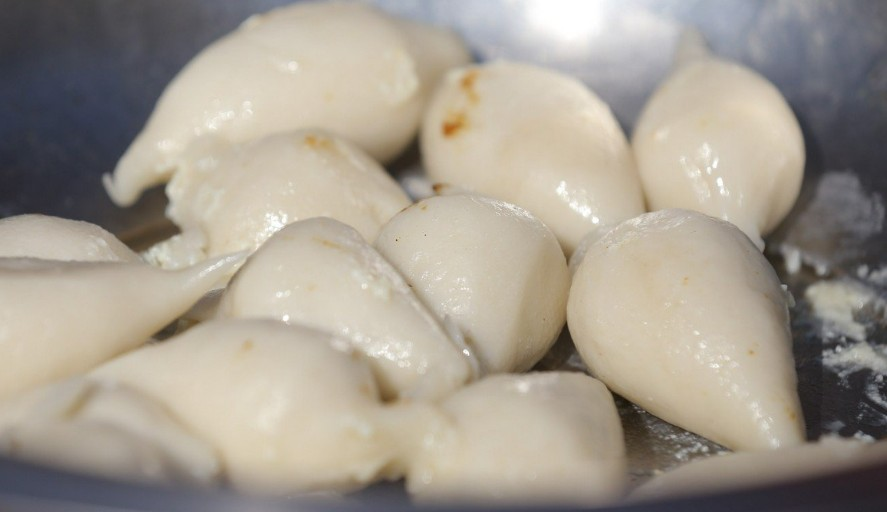yomari: (575, 215, 809, 456), (143, 0, 462, 152), (141, 322, 424, 482), (388, 191, 550, 365), (0, 240, 248, 350), (640, 39, 785, 218), (427, 63, 615, 199), (156, 133, 361, 226), (240, 229, 388, 335)
